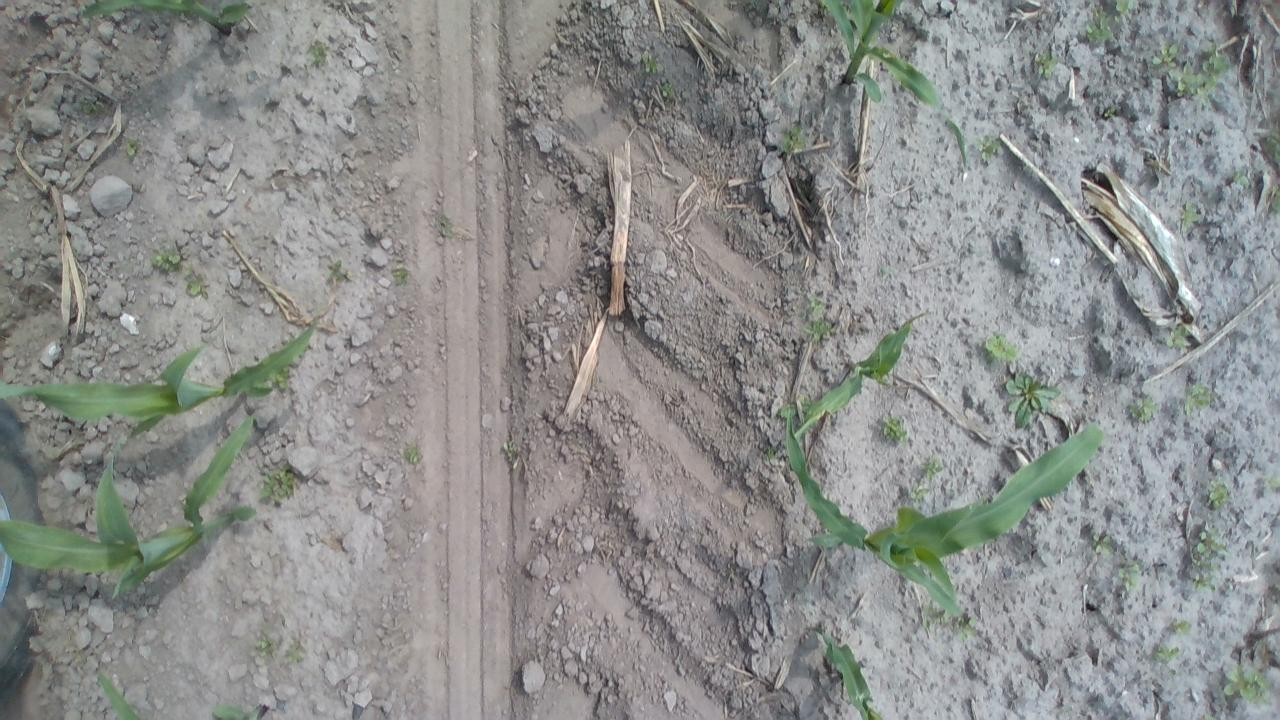Maize: (766, 406, 1118, 622), (0, 414, 270, 603), (0, 303, 337, 444), (810, 0, 968, 173), (780, 304, 930, 446), (90, 672, 281, 720), (70, 0, 258, 45), (808, 627, 898, 720)
Weeds: (1003, 369, 1068, 434), (1189, 522, 1230, 602), (1218, 659, 1274, 707), (1192, 40, 1228, 102), (796, 292, 835, 342), (258, 462, 302, 506), (981, 331, 1026, 366), (1114, 553, 1149, 597), (1148, 637, 1184, 677), (916, 601, 951, 641), (1182, 378, 1214, 419), (1161, 318, 1198, 352), (1176, 196, 1204, 240), (148, 244, 188, 274), (182, 264, 211, 301), (1086, 6, 1114, 44), (1168, 60, 1195, 99), (880, 413, 910, 448), (1127, 393, 1160, 424), (429, 206, 456, 243), (781, 124, 810, 156), (952, 612, 981, 644), (778, 394, 811, 422), (320, 258, 352, 286), (1263, 121, 1280, 172), (1206, 480, 1232, 513), (920, 454, 949, 483), (494, 436, 522, 465), (1153, 38, 1178, 70), (268, 362, 294, 392), (1033, 49, 1058, 80), (976, 135, 1001, 164), (1164, 616, 1196, 638), (77, 92, 106, 115), (639, 52, 664, 77), (250, 636, 276, 659), (1110, 0, 1141, 19), (308, 42, 330, 68), (283, 644, 306, 668), (1265, 180, 1280, 216), (388, 264, 410, 288), (1092, 532, 1114, 556), (400, 444, 427, 463), (909, 484, 932, 506), (1230, 168, 1252, 190), (1220, 0, 1243, 21), (124, 133, 144, 156), (868, 368, 891, 388), (659, 78, 676, 98), (1263, 473, 1280, 493), (758, 444, 776, 462), (1200, 708, 1225, 720), (1103, 103, 1118, 122), (240, 70, 256, 84), (255, 96, 272, 105)
